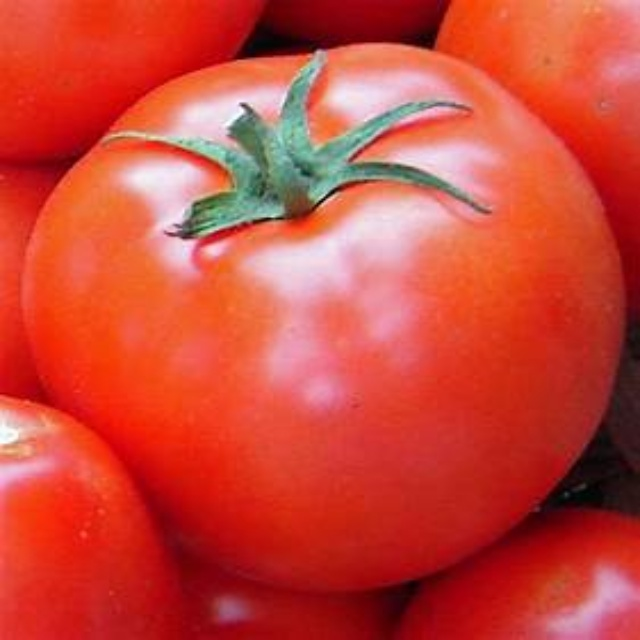tomato: (27, 43, 625, 586)
